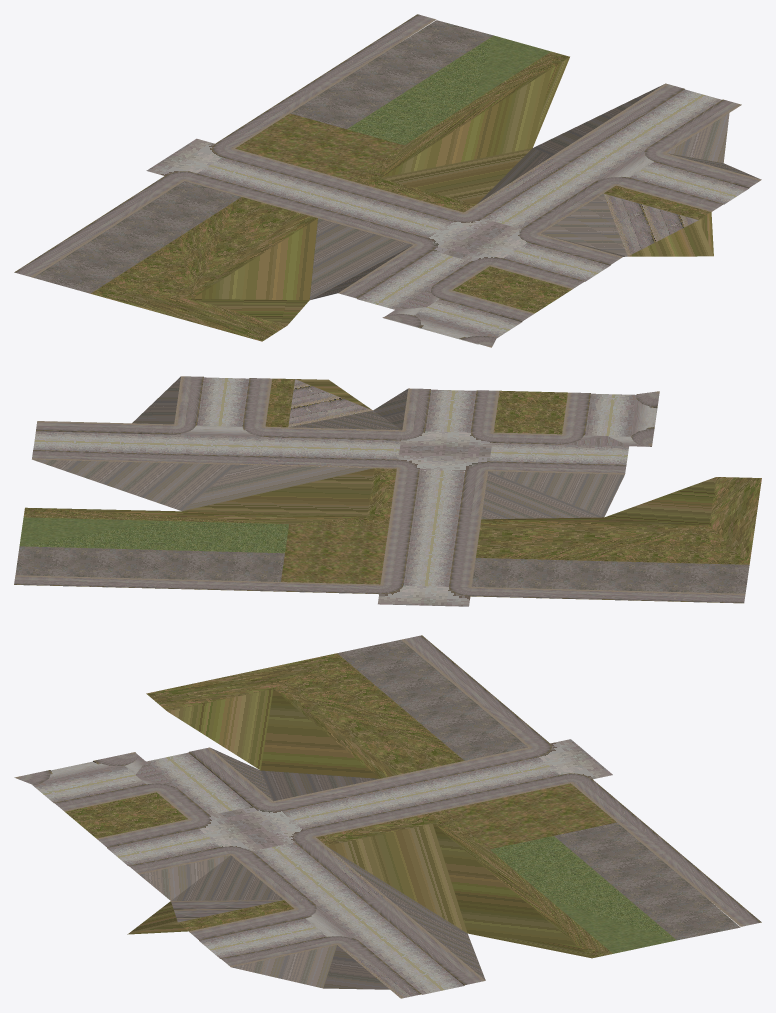
Rendered from s_lodbit_06_2.obj.
3 views of the same model, one above another, from view 1: azimuth 30°, elevation 25°; view 2: azimuth 150°, elevation 25°; view 3: azimuth 270°, elevation 25° (orthographic). The views are drawn at different scales.
Visible parts, largest first — view 1: s_lodbit_06_2; view 2: s_lodbit_06_2; view 3: s_lodbit_06_2.
Boxes of the visible parts, <box> form: s_lodbit_06_2: <box>14,14,761,347</box>; s_lodbit_06_2: <box>14,376,761,606</box>; s_lodbit_06_2: <box>14,635,761,998</box>.
Bounding box in the file's own units: 181 × 5.8 × 157.
9 materials, 9 textured.
